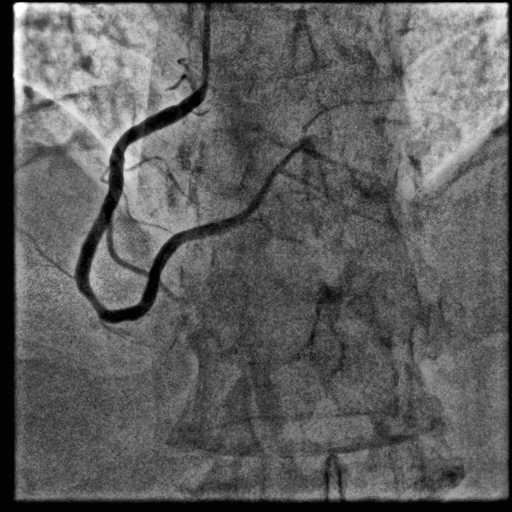pborca: (241, 147, 303, 223)
pda: (245, 218, 296, 242)
rca: (75, 86, 243, 323)
